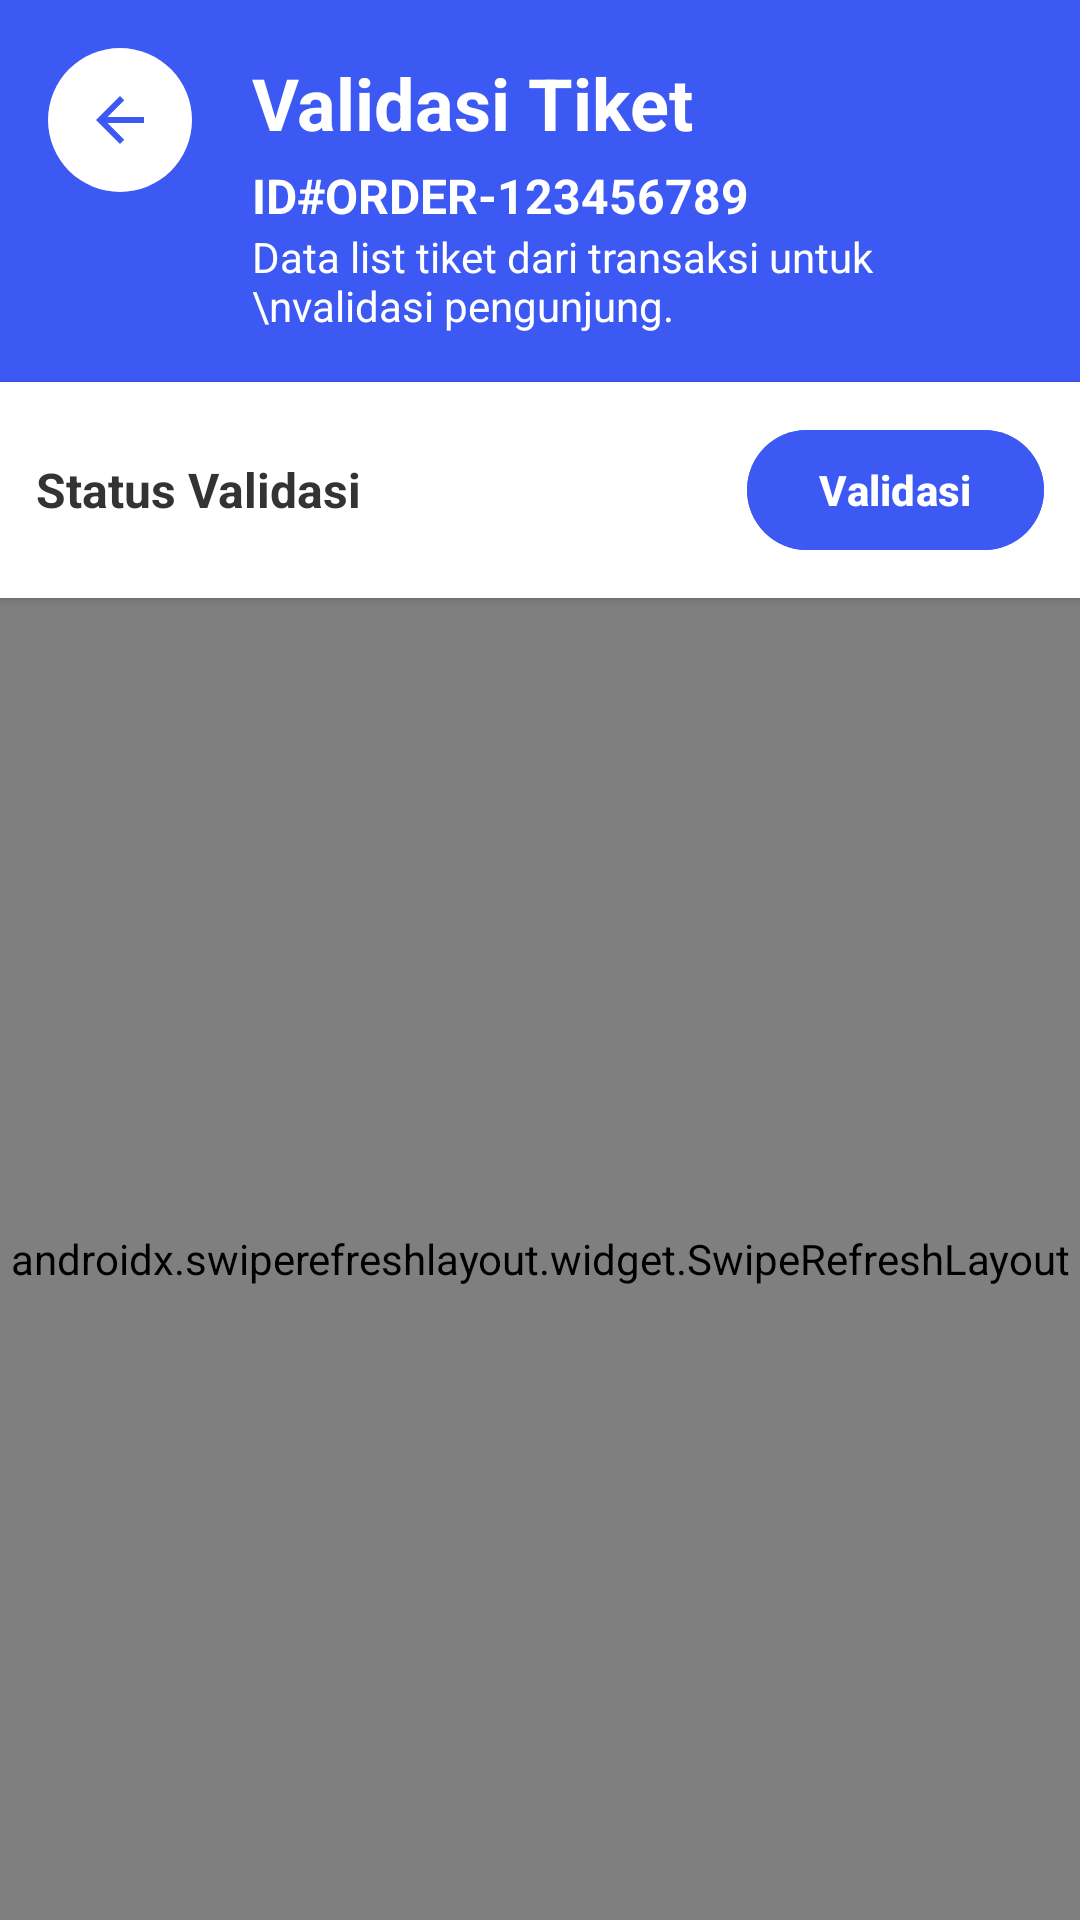

Icon click points for this 1080*1920 phone screenshot, format (x=x, y=y):
back arrow: (x=120, y=120)
